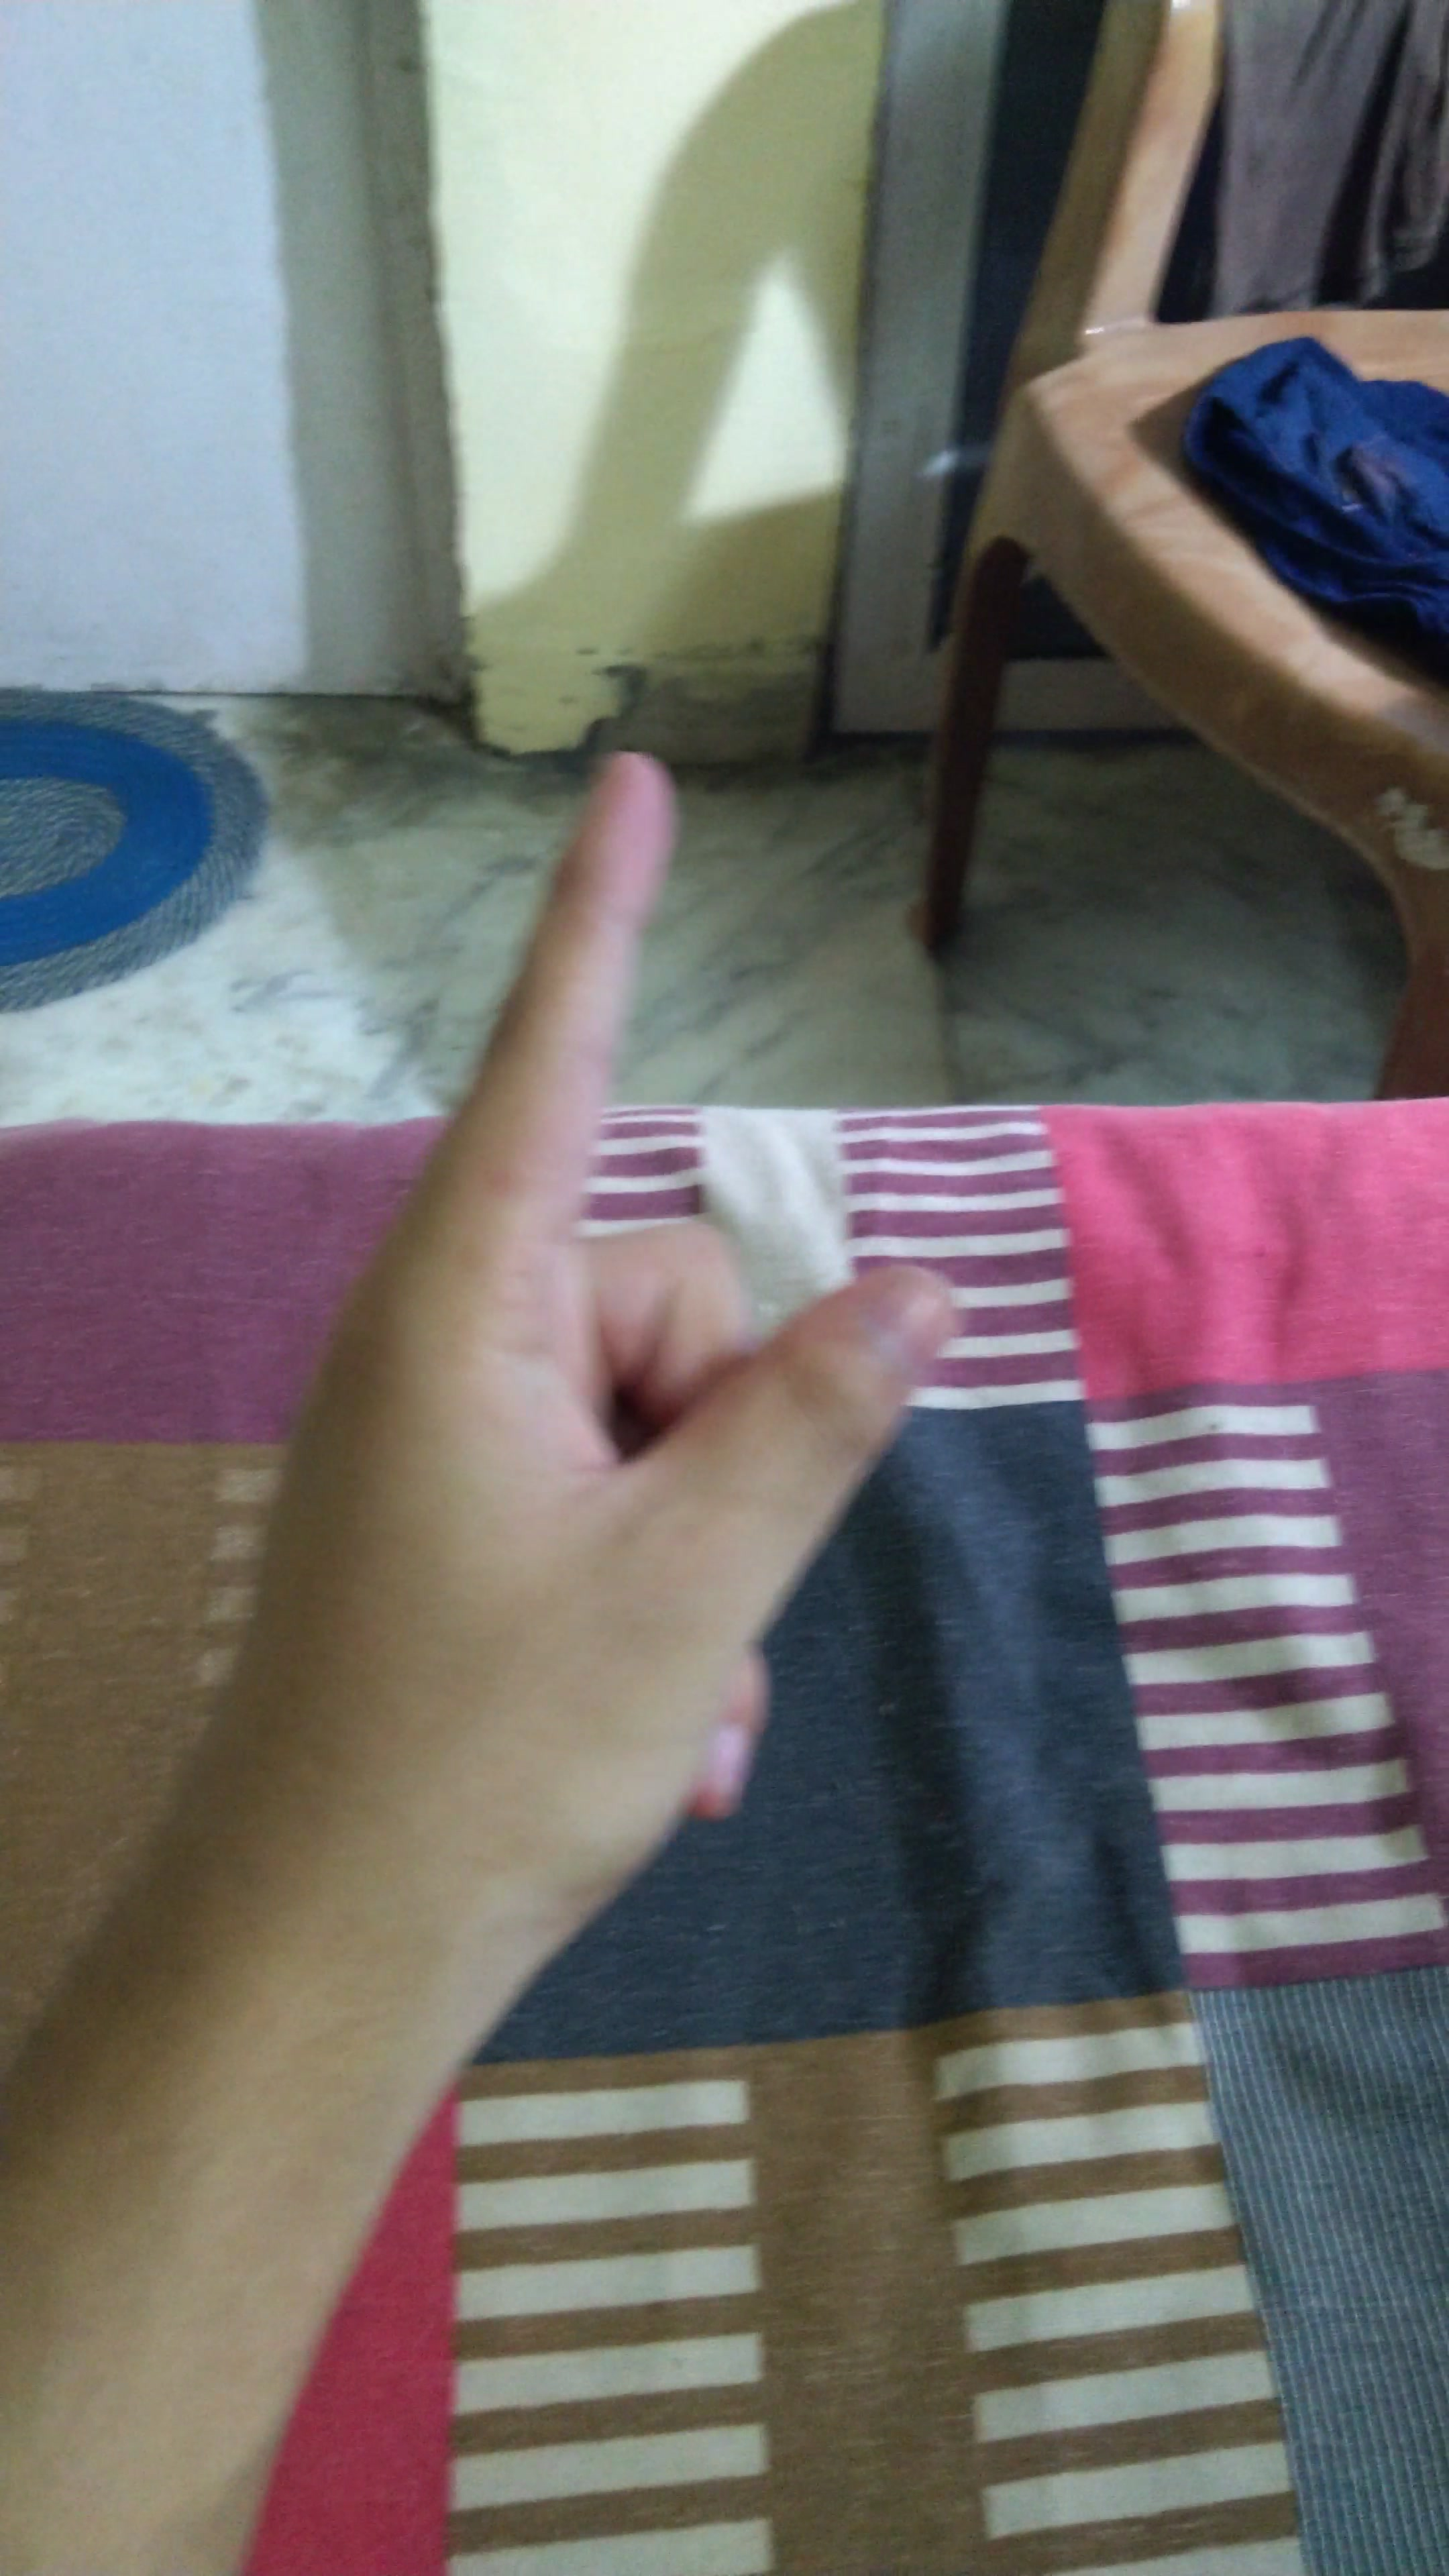hand: (133, 731, 1083, 1957)
